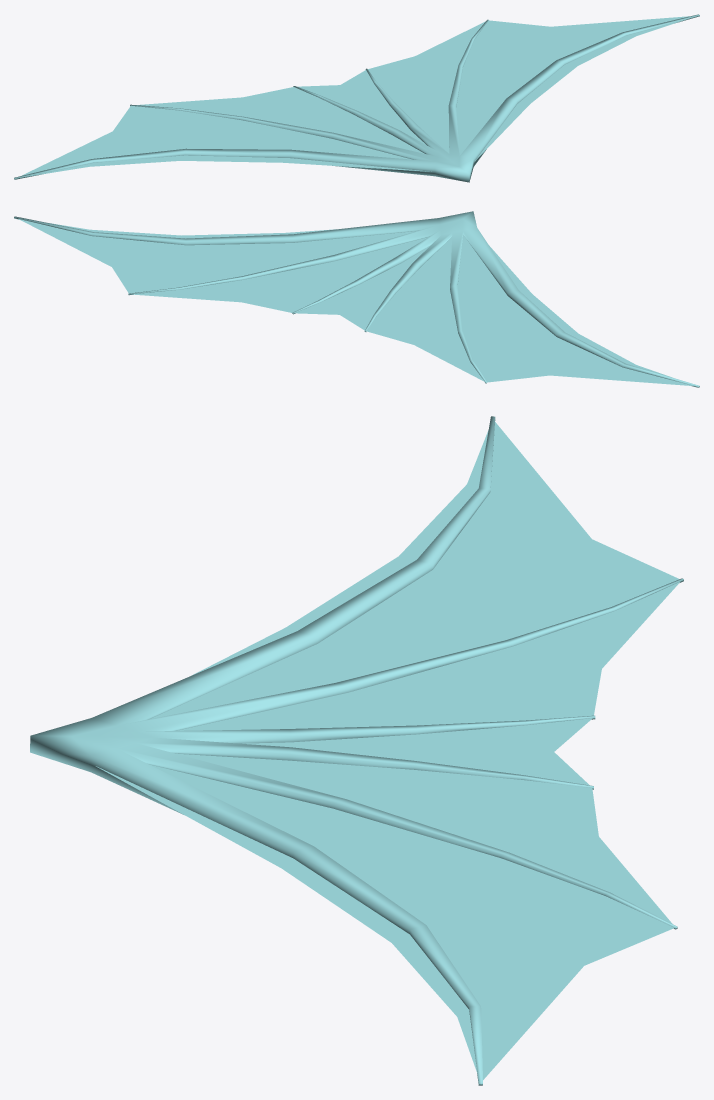
The model's file is Shrimp_Fan_Anomalis.fbx.
3 renders of one model, top to bottom at view 1: azimuth 30°, elevation 25°; view 2: azimuth 150°, elevation 25°; view 3: azimuth 270°, elevation 25°, orthographic. The views are drawn at different scales.
Parts seen in each view (by area): view 1: Fan_plane_low, Fan_low.001; view 2: Fan_plane_low, Fan_low.001; view 3: Fan_plane_low, Fan_low.001.
Part boxes in pixels (left/top/right/bottom): Fan_plane_low: left=21, top=16, right=689, bottom=176; Fan_low.001: left=14, top=14, right=699, bottom=182; Fan_plane_low: left=19, top=219, right=693, bottom=386; Fan_low.001: left=14, top=211, right=699, bottom=387; Fan_plane_low: left=96, top=422, right=679, bottom=1079; Fan_low.001: left=30, top=416, right=683, bottom=1085.
Size of the model in its own units: 147 by 1.93 by 61.08.
